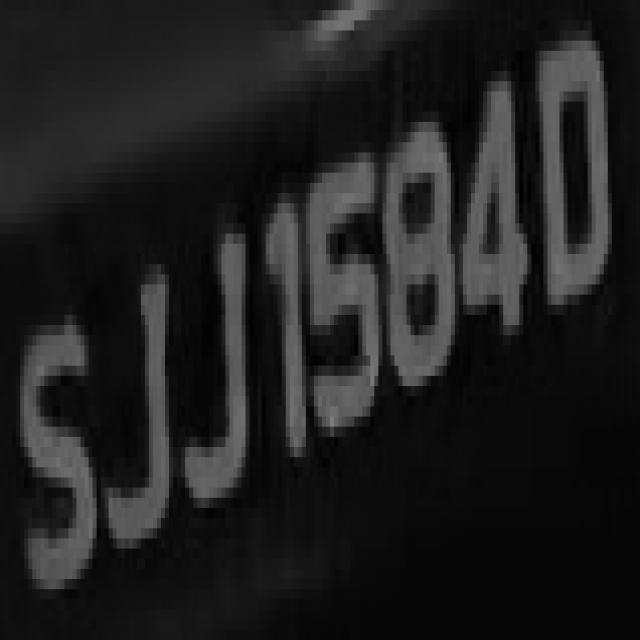1: (250, 142, 322, 518)
4: (447, 10, 535, 417)
5: (310, 152, 390, 468)
8: (374, 81, 455, 447)
D: (531, 20, 632, 325)
J: (173, 142, 258, 538), (101, 193, 173, 569)
S: (12, 264, 101, 620)
